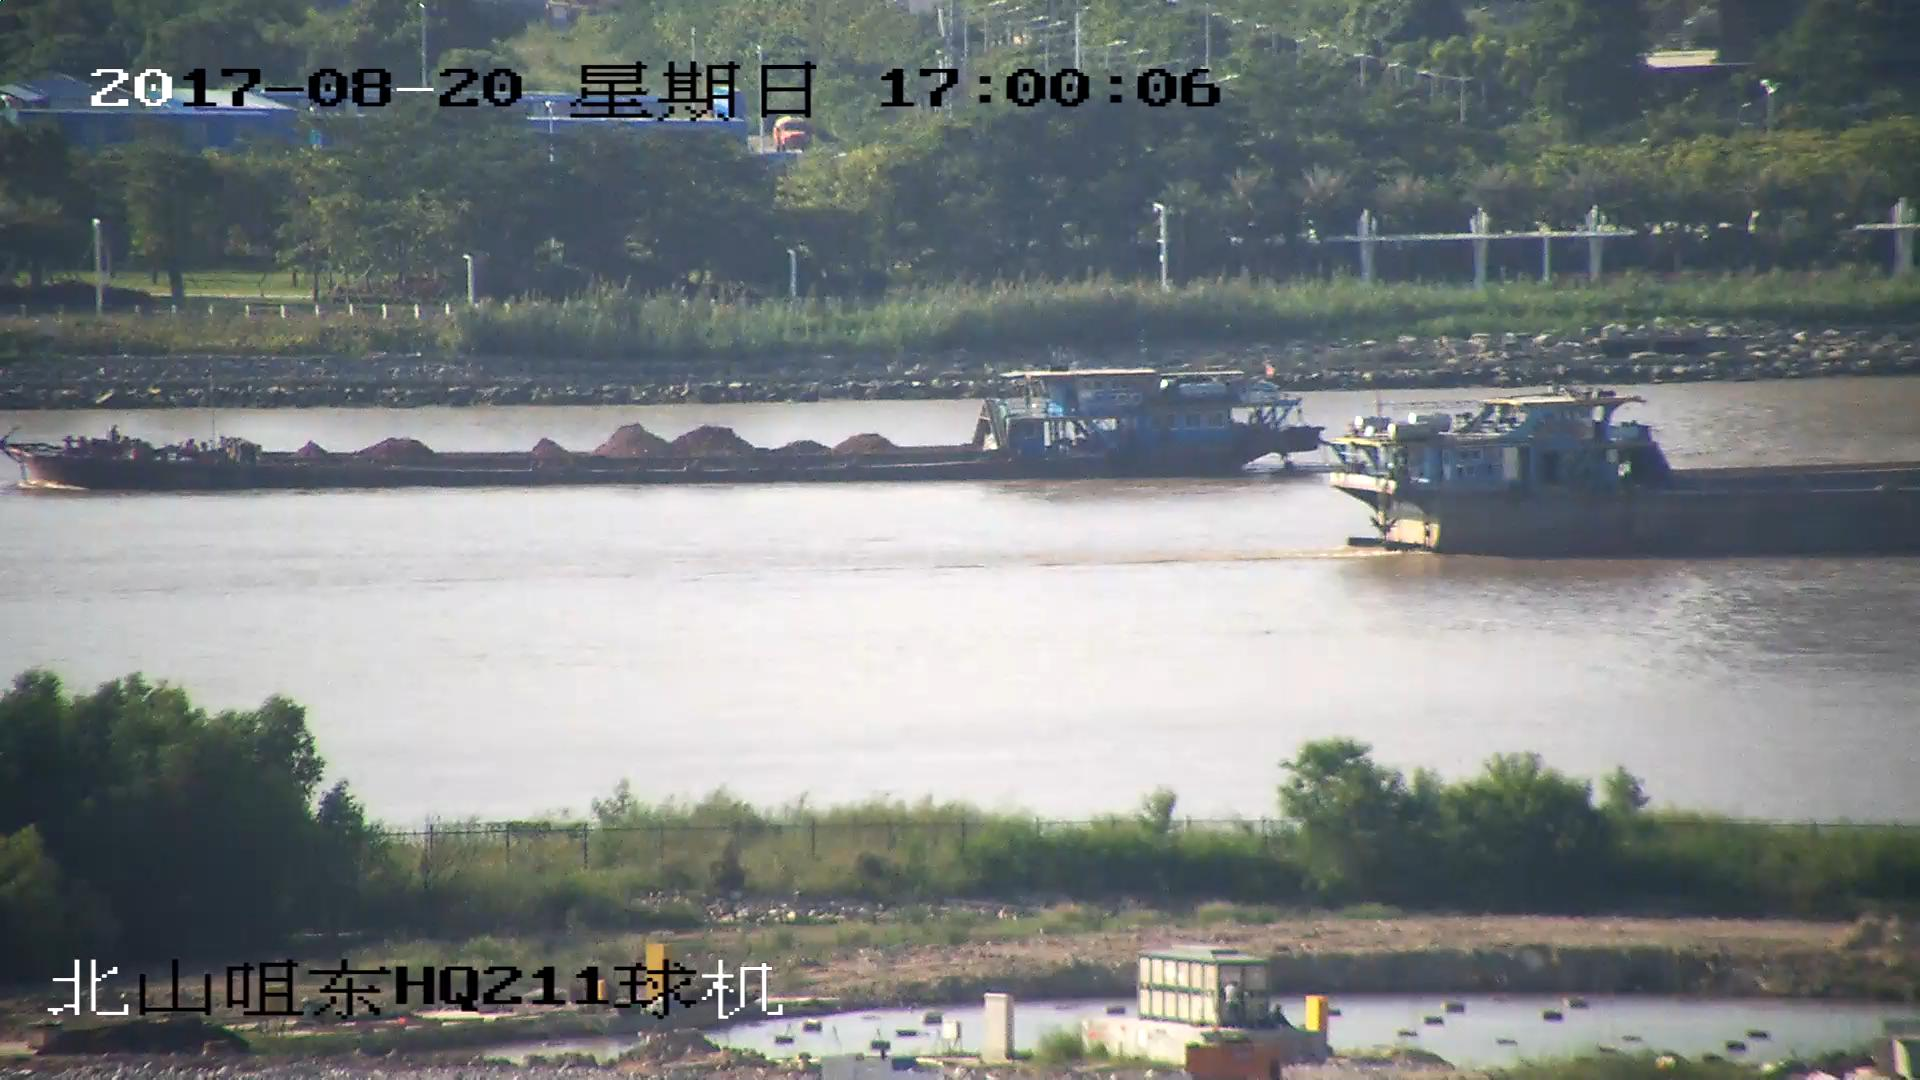bulk cargo carrier: (1325, 393, 1920, 559)
ore carrier: (1, 365, 1323, 492)
